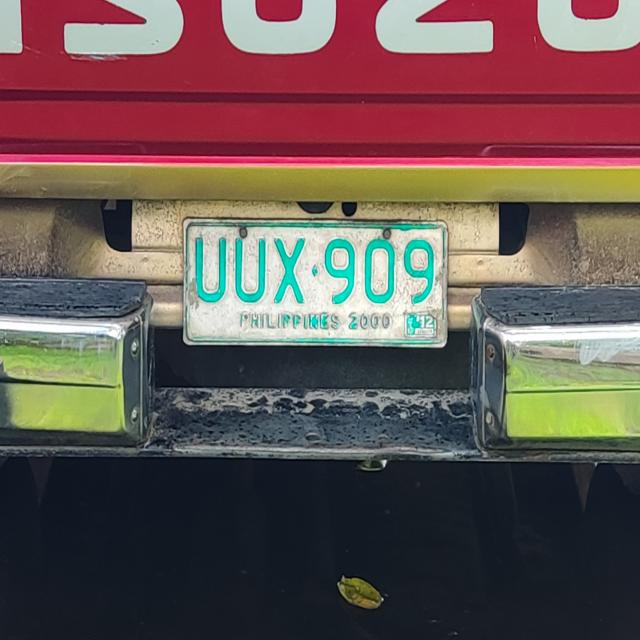plate: (180, 214, 451, 353)
